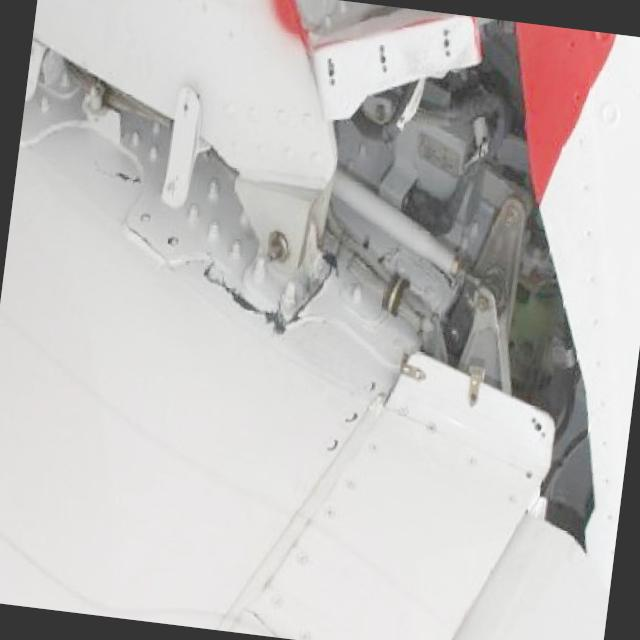crack: (199, 251, 335, 337), (119, 215, 176, 272), (94, 159, 143, 188)
